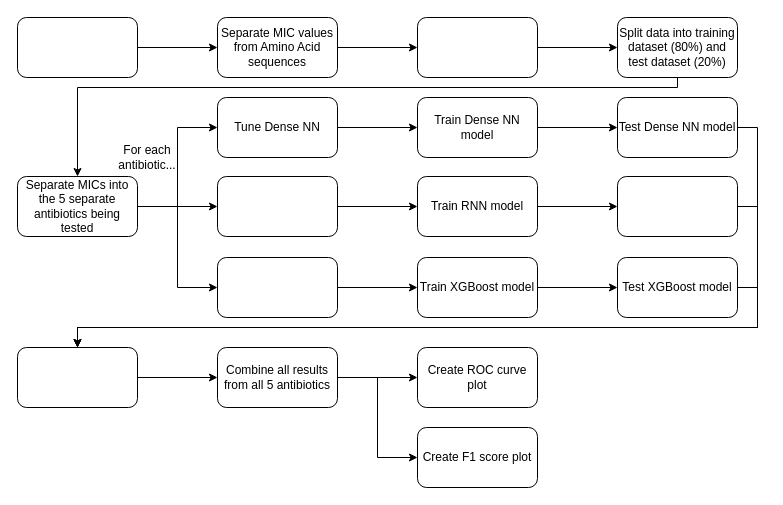
This 783x505 diagram has some shape labels left out. The centre of each missing label's shape, as x and y in pixels:
"Collect data from JMI pipeline" goes at [77,47].
"Collect results from tests for single antibiotic" goes at [77,377].
"Preprocess MICs and Amino Acid sequences" goes at [477,47].
"Test RNN model" goes at [677,206].
"Tune RNN" goes at [277,206].
"Tune XGBoost" goes at [277,287].
